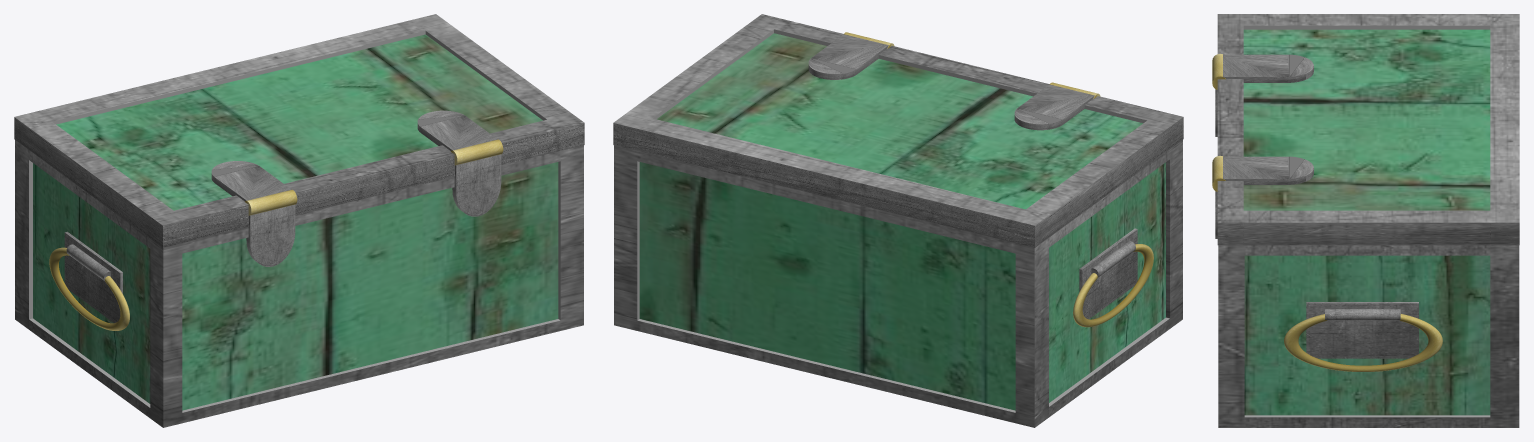
The model's file is ammo crate.fbx.
3 views of the same model, side by side, from view 1: azimuth 30°, elevation 25°; view 2: azimuth 150°, elevation 25°; view 3: azimuth 270°, elevation 25° (orthographic).
Parts seen in each view (by area): view 1: pCube1, pCube2, pasted__pCube4, pasted__pasted__pCube3, pasted__pasted__pCube4, pasted__pCube5, pasted__pCube3, pasted__pTorus1, pasted__pCylinder1, pasted__pCylinder3, pasted__pCylinder2; view 2: pCube1, pCube2, pasted__pCube4, pasted__pCube3, pasted__pCube5, pasted__pTorus1, pasted__pCylinder2; view 3: pCube2, pCube1, pCube4, pasted__pCube3, pasted__pCube5, pTorus1, pCylinder2, pasted__pCylinder1, pasted__pCylinder3.
Boxes of the visible parts, box(x1,y1,x2,y2) form: pCube1: box(15, 140, 583, 427); pCube2: box(14, 14, 584, 247); pasted__pCube4: box(64, 231, 122, 323); pasted__pasted__pCube3: box(246, 204, 295, 266); pasted__pasted__pCube4: box(452, 154, 501, 216); pasted__pCube5: box(417, 110, 497, 150); pasted__pCube3: box(211, 161, 291, 201); pasted__pTorus1: box(49, 247, 129, 330); pasted__pCylinder1: box(245, 189, 297, 215); pasted__pCylinder3: box(451, 139, 503, 165); pasted__pCylinder2: box(66, 244, 110, 280); pCube1: box(614, 140, 1182, 427); pCube2: box(613, 14, 1183, 247); pasted__pCube4: box(1079, 228, 1137, 319); pasted__pCube3: box(1014, 84, 1094, 130); pasted__pCube5: box(808, 34, 888, 79); pasted__pTorus1: box(1073, 244, 1153, 327); pasted__pCylinder2: box(1091, 241, 1135, 277); pCube2: box(1217, 14, 1519, 245); pCube1: box(1218, 245, 1519, 427); pCube4: box(1306, 302, 1418, 358); pasted__pCube3: box(1223, 54, 1313, 82); pasted__pCube5: box(1223, 156, 1313, 184); pTorus1: box(1284, 314, 1442, 371); pCylinder2: box(1325, 309, 1400, 320); pasted__pCylinder1: box(1212, 53, 1225, 89); pasted__pCylinder3: box(1212, 155, 1225, 191).
Size of the model in its own units: 13.41 by 6.07 by 8.12.
Materials: 14 (13 with a texture image).
